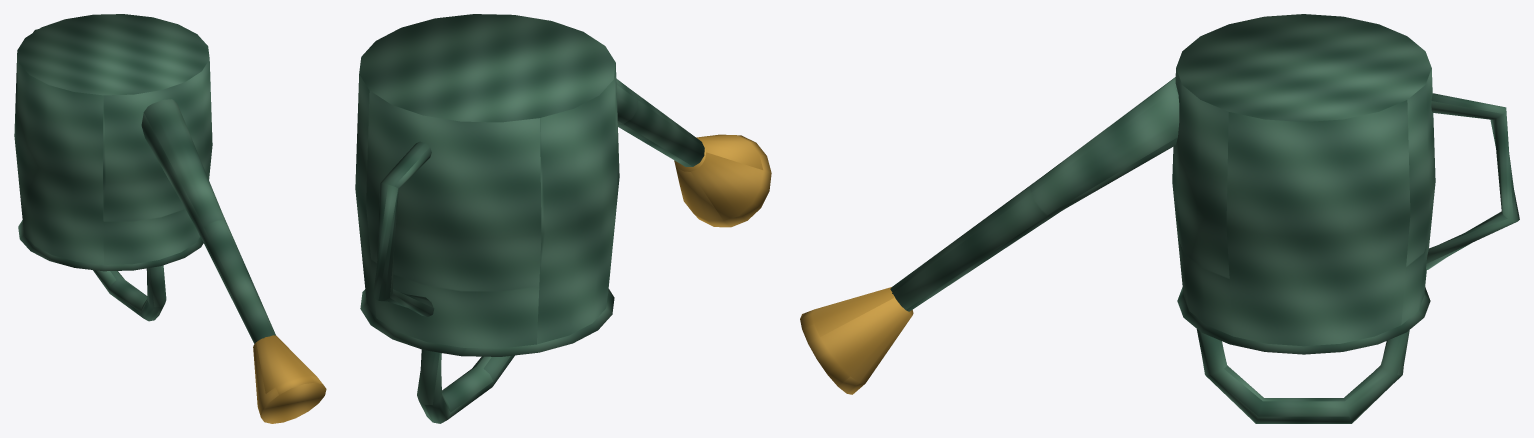
File: regadera.glb
3 renders of one model, left to right at view 1: azimuth 30°, elevation 25°; view 2: azimuth 150°, elevation 25°; view 3: azimuth 270°, elevation 25°, orthographic. The views are drawn at different scales.
Parts seen in each view (by area): view 1: regadera; view 2: regadera; view 3: regadera.
Boxes of the visible parts, x1,y1,x2,y2 form: regadera: [14, 14, 326, 423]; regadera: [355, 14, 771, 423]; regadera: [800, 14, 1519, 423].
Size of the model in its own units: 0.21 by 0.3001 by 0.5741.
2 materials, 2 textured.
